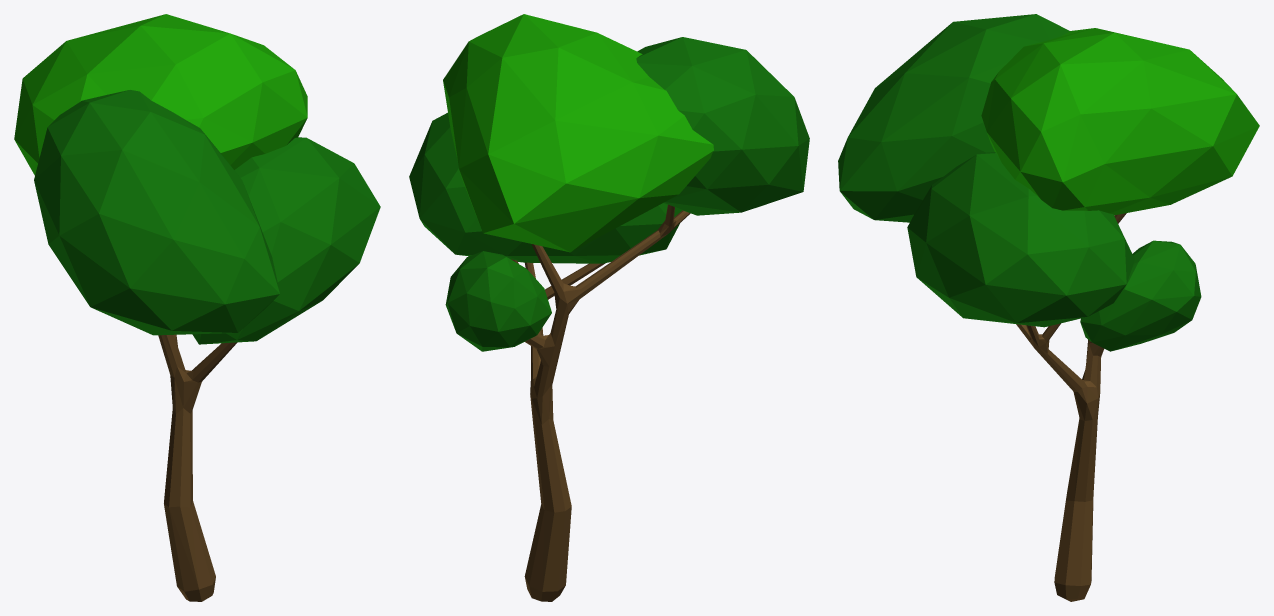
File: LeafTree2.fbx
3 views of the same model, side by side, from view 1: azimuth 30°, elevation 25°; view 2: azimuth 150°, elevation 25°; view 3: azimuth 270°, elevation 25° (orthographic). The views are drawn at different scales.
Visible parts, largest first — view 1: LoofBoom2; view 2: LoofBoom2; view 3: LoofBoom2.
Part boxes in pixels (box(x1,y1,x2,y2)): LoofBoom2: box(14, 14, 380, 601); LoofBoom2: box(409, 14, 809, 601); LoofBoom2: box(838, 14, 1259, 601).
Bounding box in the file's own units: 4 × 6.53 × 4.53.
